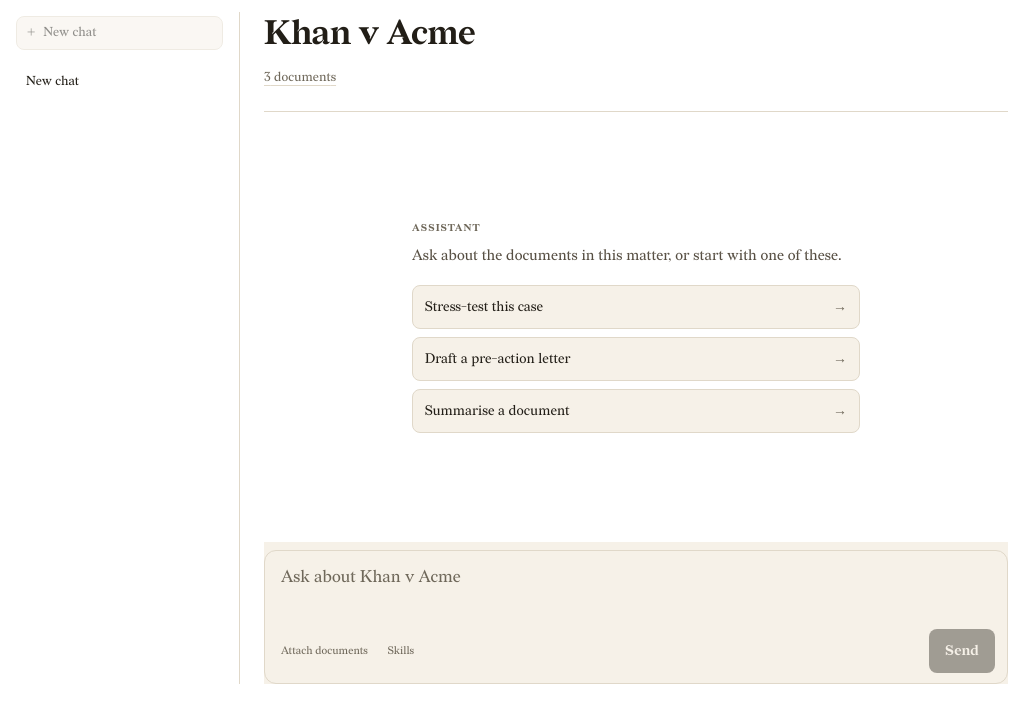
AssistantTab — header document popover › opens a list of documents with their index status from the doc count
Click the button with test id "docs-context-status": {"x": 300, "y": 77} [264, 68, 336, 87]
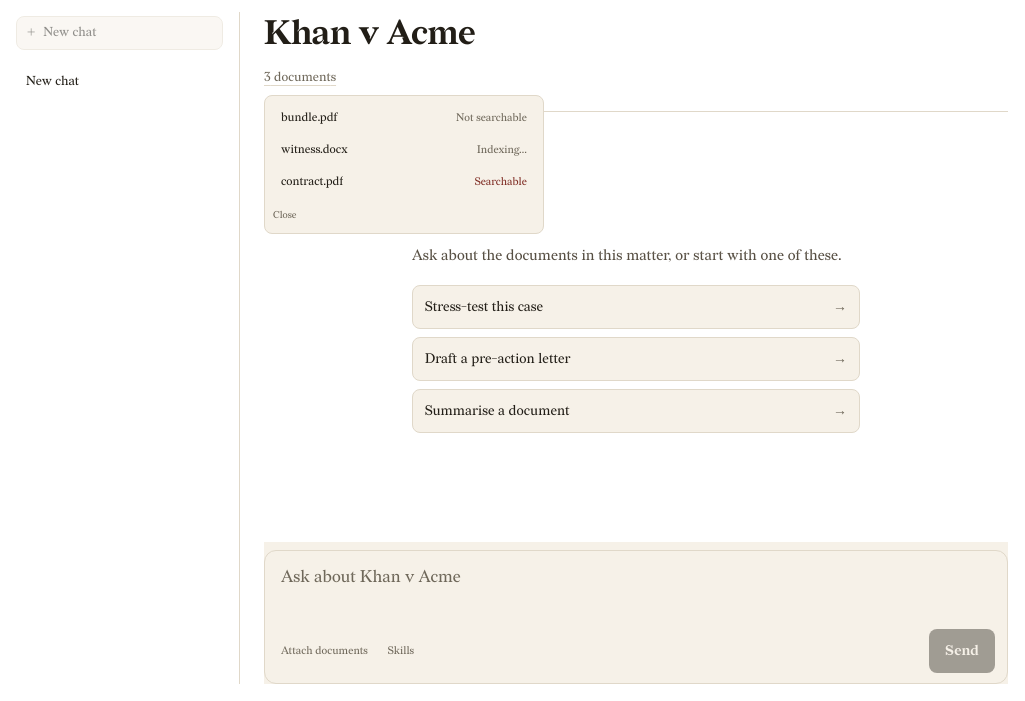
expect the text "contract.pdf" is shown: met, box [281, 174, 343, 190]
expect the text "Searchable" is shown: met, box [475, 175, 527, 190]
expect the text "witness.docx" is shown: met, box [281, 142, 348, 158]
